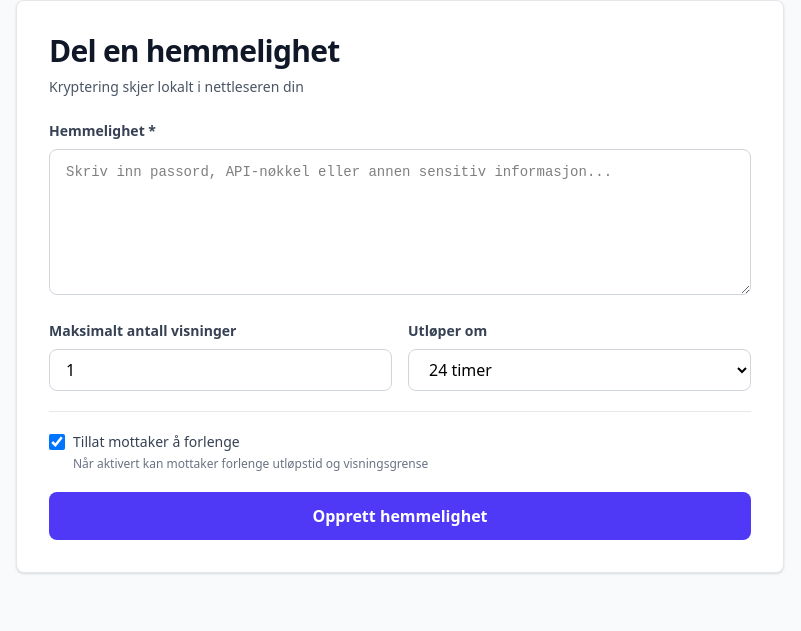
Test: CreateSecret › displays result after successful creation
Type "My secret message" into the text box labelled "Hemmelighet *" at (400, 222), box left=49, top=149, right=751, bottom=295
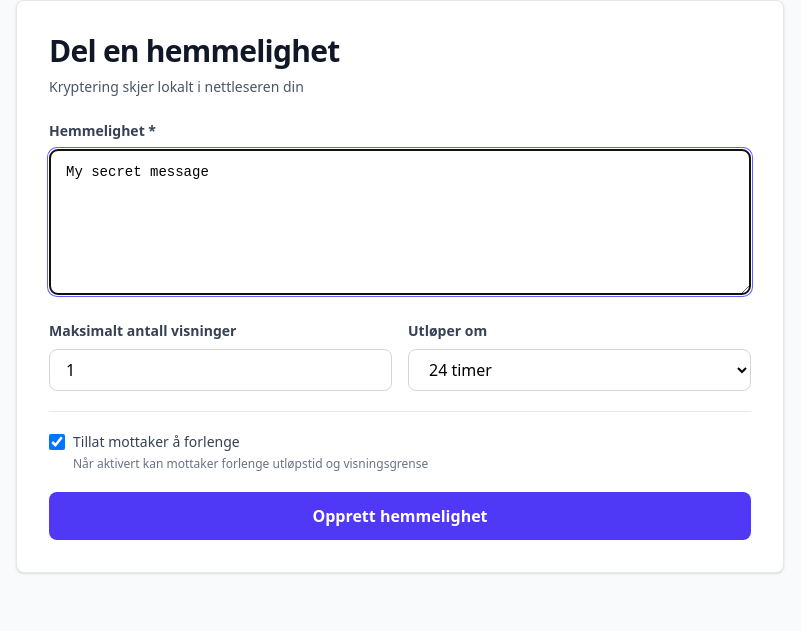
Click the button "Opprett hemmelighet" at (400, 516), box left=49, top=492, right=751, bottom=540
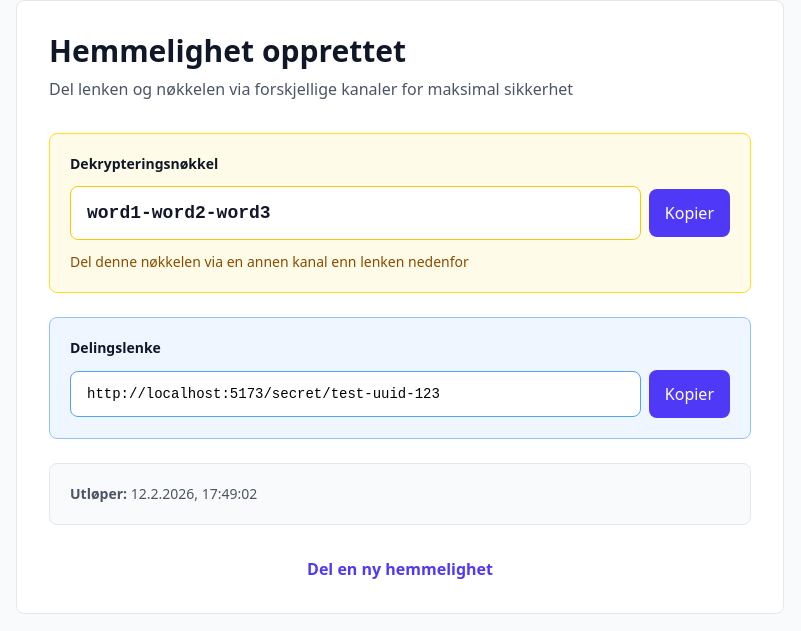
expect the heading "Hemmelighet opprettet" is shown: met, box left=49, top=30, right=406, bottom=71
expect the text "word1-word2-word3" is shown: met, box left=70, top=186, right=641, bottom=240
expect the field showing "http://localhost:5173/secret/test-uuid-123" is shown: met, box left=70, top=371, right=641, bottom=417
